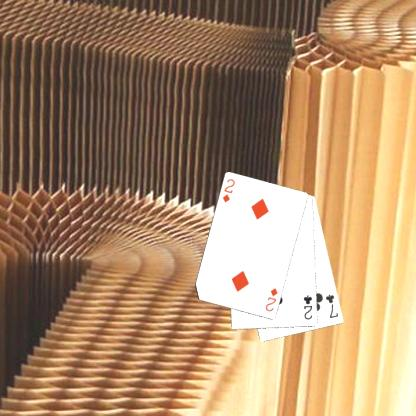2C: (301, 293, 314, 321)
2D: (262, 285, 279, 313), (220, 176, 237, 204)
7C: (323, 292, 340, 320)
